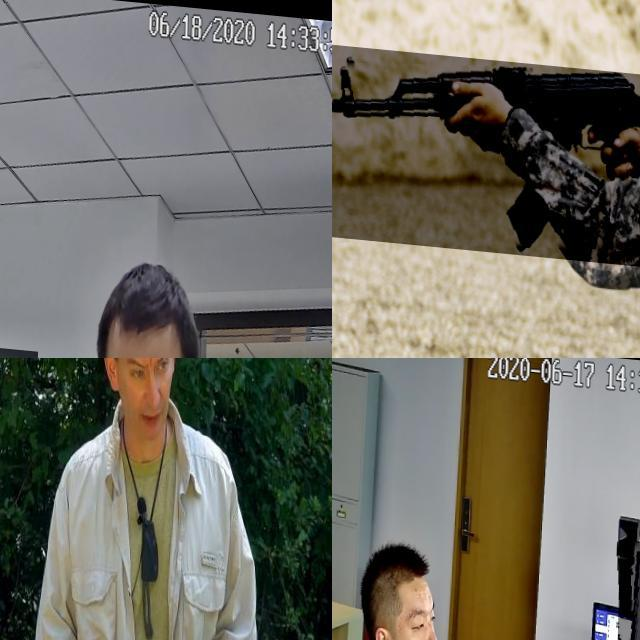gun-knife-thesis - v11 Yolov5 augmented: (332, 43, 640, 260), (618, 527, 640, 640)
